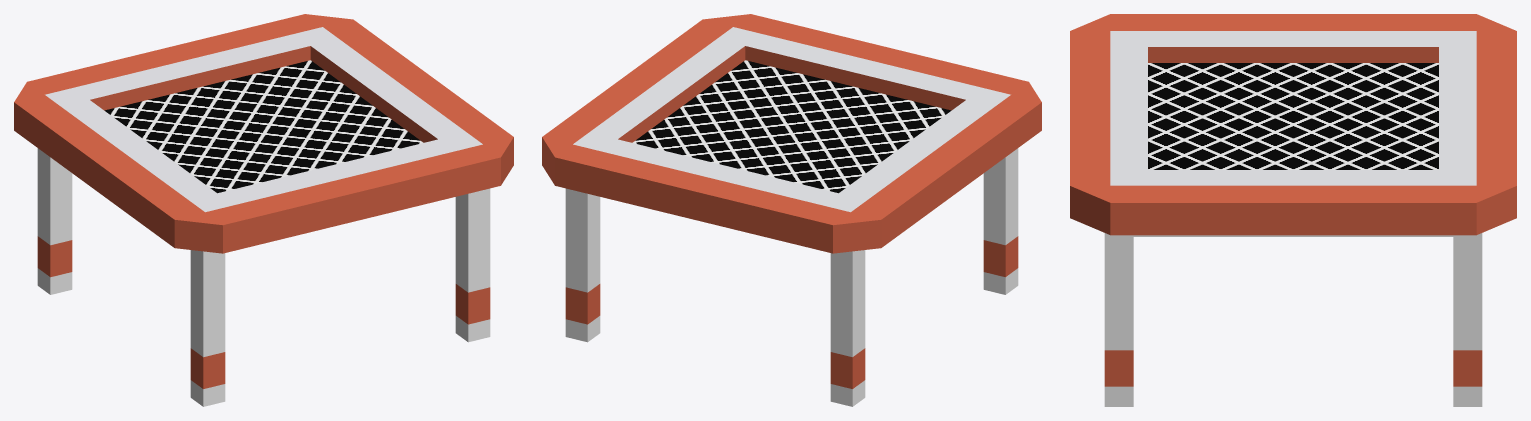
Rendered from frameHighTile.glb.
The picture shows the model from 3 angles, left to right: view 1: azimuth 30°, elevation 25°; view 2: azimuth 150°, elevation 25°; view 3: azimuth 270°, elevation 25°; orthographic projection. The views are drawn at different scales.
Visible parts, largest first — view 1: frameHighTile; view 2: frameHighTile; view 3: frameHighTile.
Part boxes in pixels (x1,y1,x2,y2): frameHighTile: (14, 14, 513, 406); frameHighTile: (542, 14, 1041, 406); frameHighTile: (1070, 14, 1516, 406).
Bounding box in the file's own units: 10 × 5.4 × 10.
Materials: 4 (1 with a texture image).
